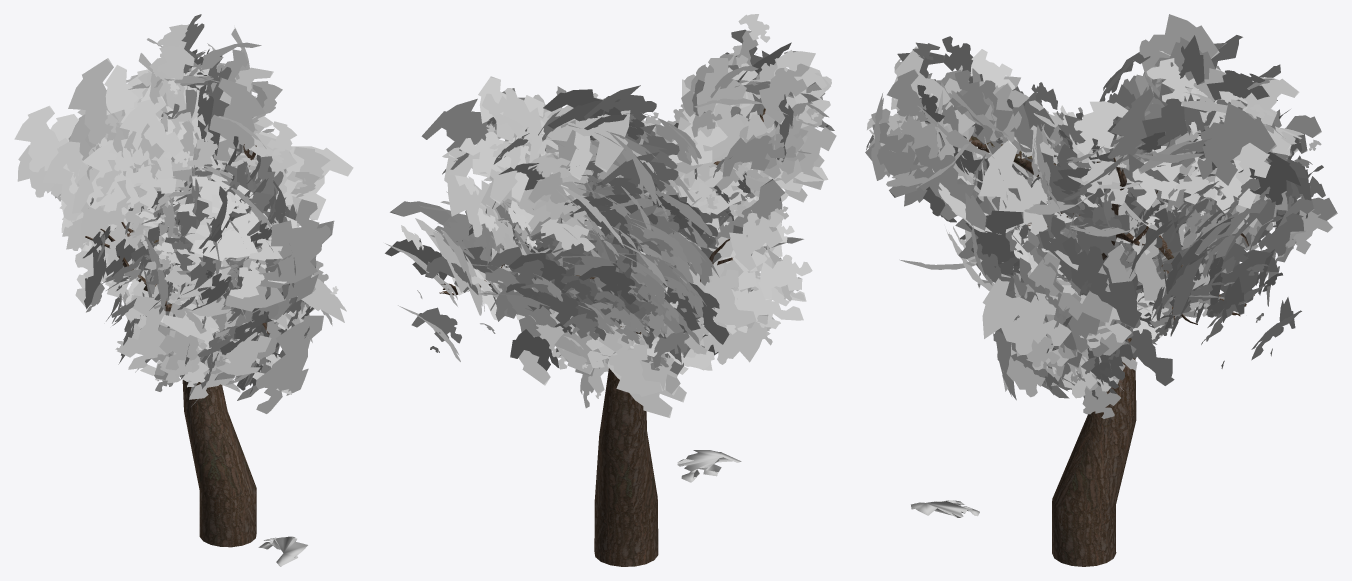
Rendered from PruebaArbol.fbx.
3 views of the same model, side by side, from view 1: azimuth 30°, elevation 25°; view 2: azimuth 150°, elevation 25°; view 3: azimuth 270°, elevation 25° (orthographic). The views are drawn at different scales.
Visible parts, largest first — view 1: Cylinder.002, Cylinder.002|Tree Branch|Dupli|225, Cylinder.002|Tree Branch|Dupli|602, Cylinder.002|Tree Branch|Dupli|299, Cylinder.001|Tree Branch|Dupli|353, Cylinder.001|Tree Branch|Dupli|717, Cylinder.002|Tree Branch|Dupli|386, Cylinder.002|Tree Branch|Dupli|538, Cylinder.001|Tree Branch|Dupli|631, Cylinder.001|Tree Branch|Dupli|298, Cylinder.001|Tree Branch|Dupli|256, Cylinder.001|Tree Branch|Dupli|598 (+55 smaller); view 2: Cylinder.002, Cylinder.001|Tree Branch|Dupli|510, Cylinder.001|Tree Branch|Dupli|570, Cylinder.002|Tree Branch|Dupli|368, Cylinder.001|Tree Branch|Dupli|384, Cylinder.002|Tree Branch|Dupli|497, Cylinder.002|Tree Branch|Dupli|451, Cylinder.002|Tree Branch|Dupli|317, Cylinder.001|Tree Branch|Dupli|386, Cylinder.002|Tree Branch|Dupli|457, Cylinder.001|Tree Branch|Dupli|201, Cylinder.002|Tree Branch|Dupli|215 (+50 smaller); view 3: Cylinder.002, Cylinder.002|Tree Branch|Dupli|631, Cylinder.001|Tree Branch|Dupli|384, Cylinder.002|Tree Branch|Dupli|566, Cylinder.002|Tree Branch|Dupli|665, Cylinder.002|Tree Branch|Dupli|598, Cylinder.001|Tree Branch|Dupli|341, Cylinder.002|Tree Branch|Dupli|227, Cylinder.002|Tree Branch|Dupli|387, Cylinder.002|Tree Branch|Dupli|585, Cylinder.002|Tree Branch|Dupli|384, Cylinder.001|Tree Branch|Dupli|511 (+49 smaller).
Part boxes in pixels (<box>): Cylinder.002: <box>85,144,268,547</box>; Cylinder.002|Tree Branch|Dupli|225: <box>258,199,330,288</box>; Cylinder.002|Tree Branch|Dupli|602: <box>256,315,323,413</box>; Cylinder.002|Tree Branch|Dupli|299: <box>204,77,265,161</box>; Cylinder.001|Tree Branch|Dupli|353: <box>119,96,183,179</box>; Cylinder.001|Tree Branch|Dupli|717: <box>68,58,129,144</box>; Cylinder.002|Tree Branch|Dupli|386: <box>190,185,269,261</box>; Cylinder.002|Tree Branch|Dupli|538: <box>117,295,177,369</box>; Cylinder.001|Tree Branch|Dupli|631: <box>82,140,139,230</box>; Cylinder.001|Tree Branch|Dupli|298: <box>14,105,68,172</box>; Cylinder.001|Tree Branch|Dupli|256: <box>42,141,89,220</box>; Cylinder.001|Tree Branch|Dupli|598: <box>277,146,353,220</box>; Cylinder.002: <box>594,108,765,566</box>; Cylinder.001|Tree Branch|Dupli|510: <box>541,93,630,172</box>; Cylinder.001|Tree Branch|Dupli|570: <box>481,88,542,163</box>; Cylinder.002|Tree Branch|Dupli|368: <box>677,103,767,189</box>; Cylinder.001|Tree Branch|Dupli|384: <box>421,98,496,159</box>; Cylinder.002|Tree Branch|Dupli|497: <box>729,211,783,271</box>; Cylinder.002|Tree Branch|Dupli|451: <box>608,335,663,396</box>; Cylinder.002|Tree Branch|Dupli|317: <box>704,257,757,328</box>; Cylinder.001|Tree Branch|Dupli|386: <box>459,132,528,202</box>; Cylinder.002|Tree Branch|Dupli|457: <box>703,314,768,364</box>; Cylinder.001|Tree Branch|Dupli|201: <box>444,154,500,237</box>; Cylinder.002|Tree Branch|Dupli|215: <box>677,58,746,121</box>; Cylinder.002: <box>969,136,1168,566</box>; Cylinder.002|Tree Branch|Dupli|631: <box>982,273,1071,355</box>; Cylinder.001|Tree Branch|Dupli|384: <box>1197,103,1276,185</box>; Cylinder.002|Tree Branch|Dupli|566: <box>979,140,1049,235</box>; Cylinder.002|Tree Branch|Dupli|665: <box>1062,236,1141,328</box>; Cylinder.002|Tree Branch|Dupli|598: <box>1024,250,1125,358</box>; Cylinder.001|Tree Branch|Dupli|341: <box>1135,14,1219,95</box>; Cylinder.002|Tree Branch|Dupli|227: <box>950,70,1013,144</box>; Cylinder.002|Tree Branch|Dupli|387: <box>913,145,974,221</box>; Cylinder.002|Tree Branch|Dupli|585: <box>865,122,925,197</box>; Cylinder.002|Tree Branch|Dupli|384: <box>891,46,975,133</box>; Cylinder.001|Tree Branch|Dupli|511: <box>1074,101,1128,154</box>.
Size of the model in its own units: 579 by 820 by 687.
